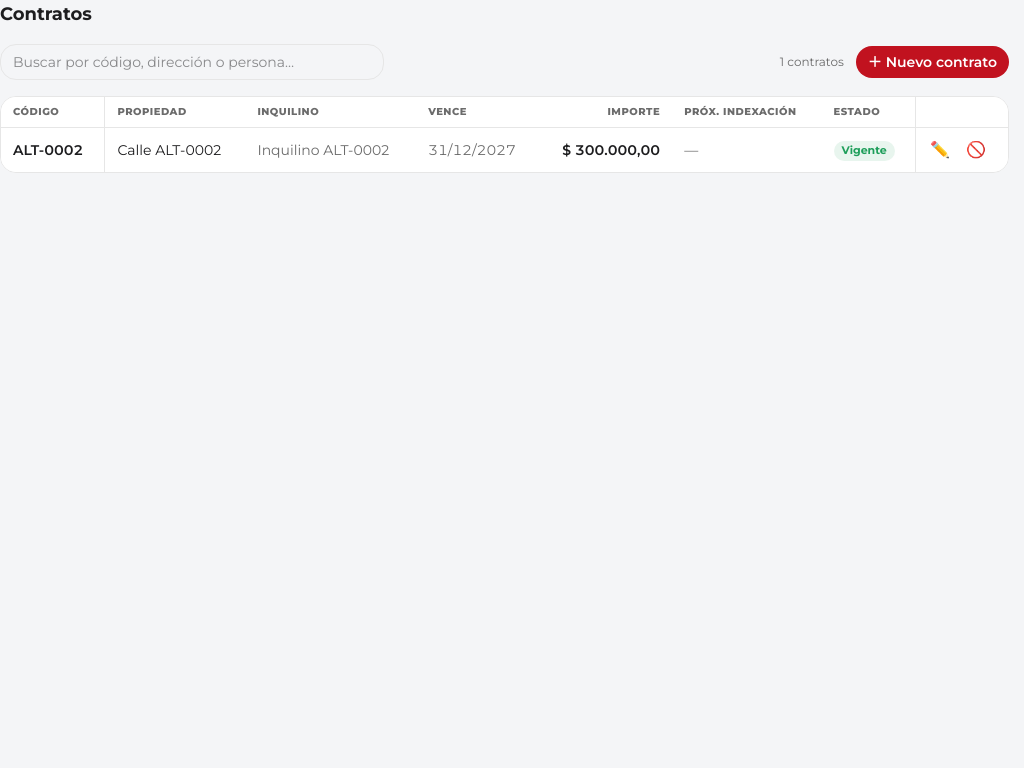
Test: ContratosLista › la papelera de un vigente pide el motivo
Click the button named "Anular el contrato ALT-0002" at {"x": 976, "y": 150}, box top-left (960, 136), bottom-right (992, 164)
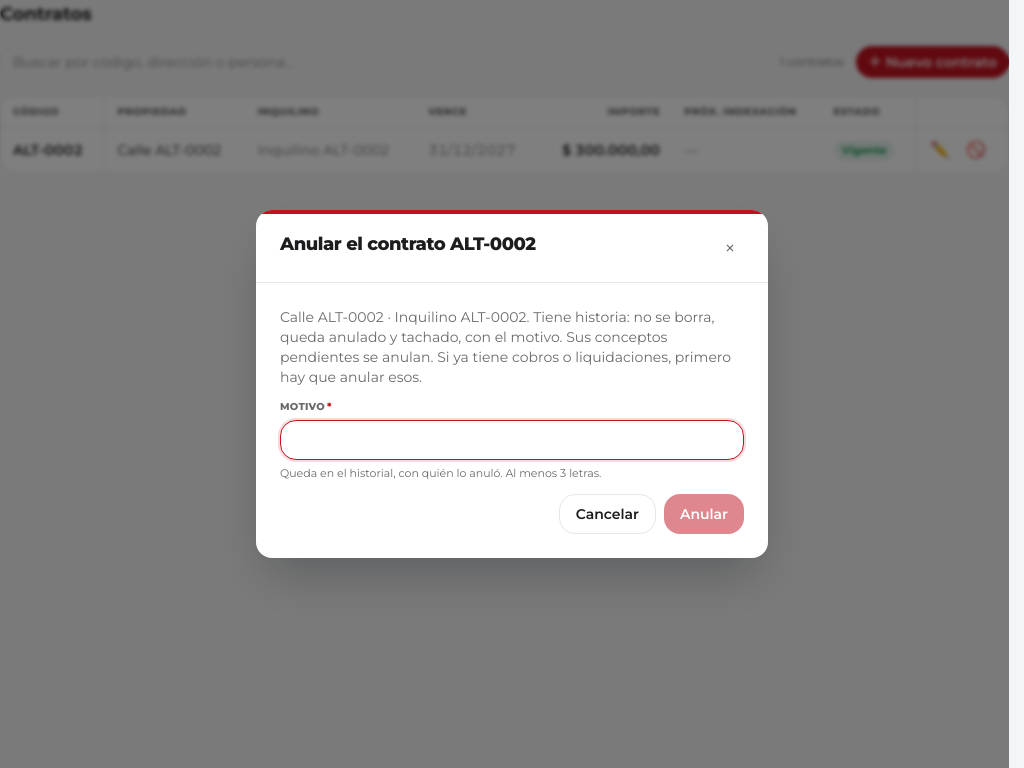
Now the text "Motivo" is shown, box top-left (280, 400), bottom-right (325, 413)
